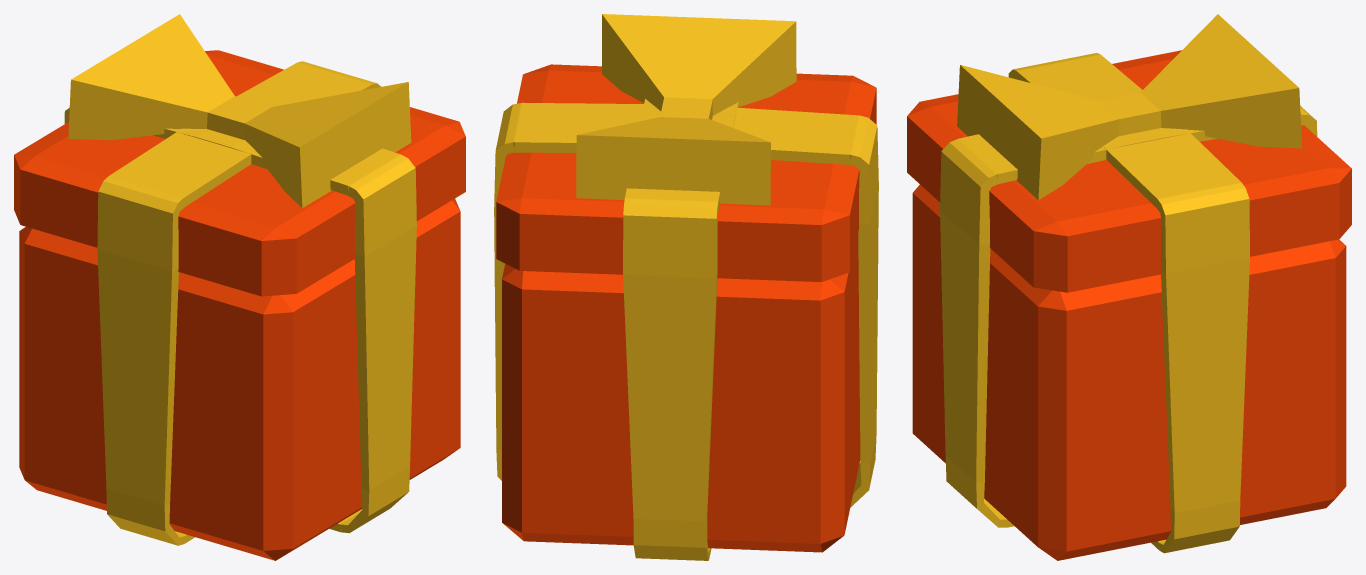
Rendered from gift1.fbx.
3 renders of one model, left to right at view 1: azimuth 30°, elevation 25°; view 2: azimuth 150°, elevation 25°; view 3: azimuth 270°, elevation 25°, orthographic. The views are drawn at different scales.
Parts seen in each view (by area): view 1: 立方體.069; view 2: 立方體.069; view 3: 立方體.069.
Boxes of the visible parts, box(x1,y1,x2,y2) form: 立方體.069: box(14, 14, 465, 560); 立方體.069: box(494, 14, 878, 560); 立方體.069: box(907, 14, 1351, 560).
Size of the model in its own units: 1502 by 1529 by 1502.
